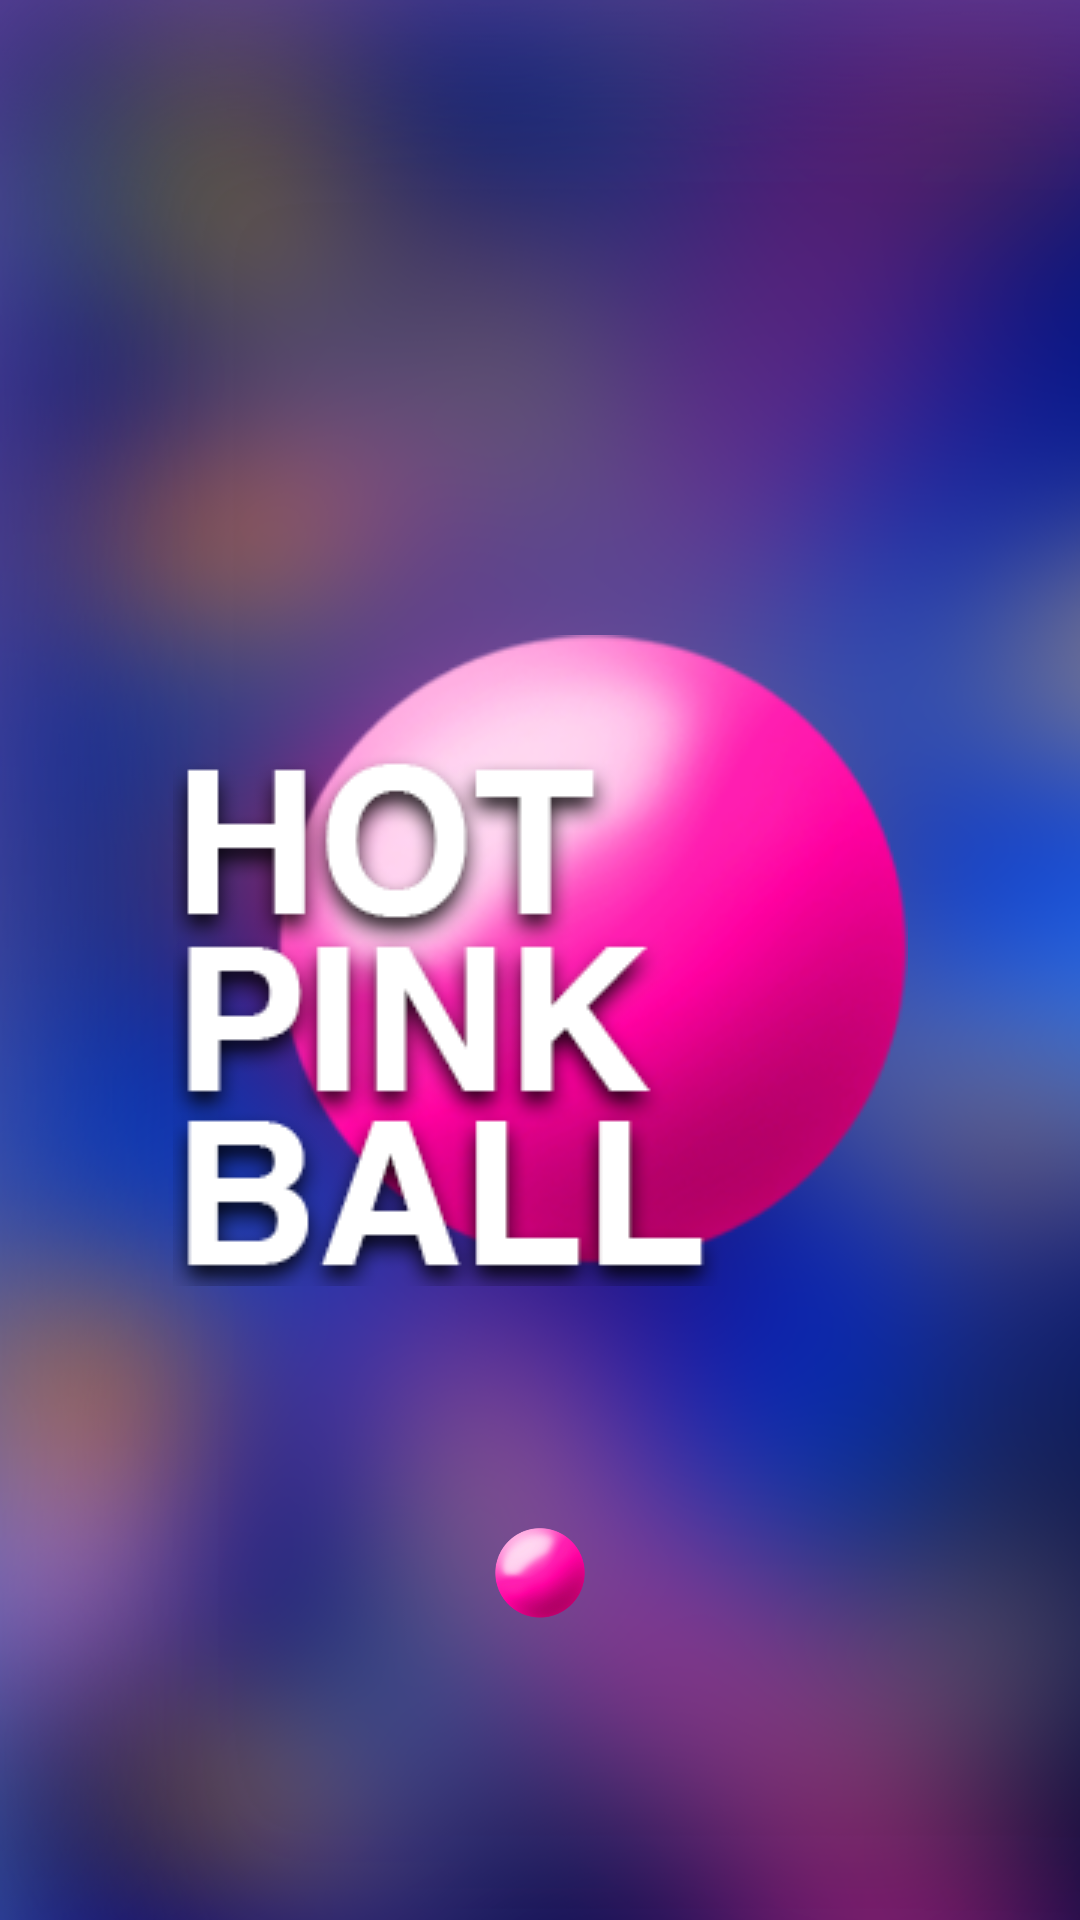

Where icons sit on this 1080px×1920px app screen, as {"x1": x1, "y1": y1, "x2": x2, "y2": y2}:
ball start: {"x1": 495, "y1": 1528, "x2": 585, "y2": 1618}
